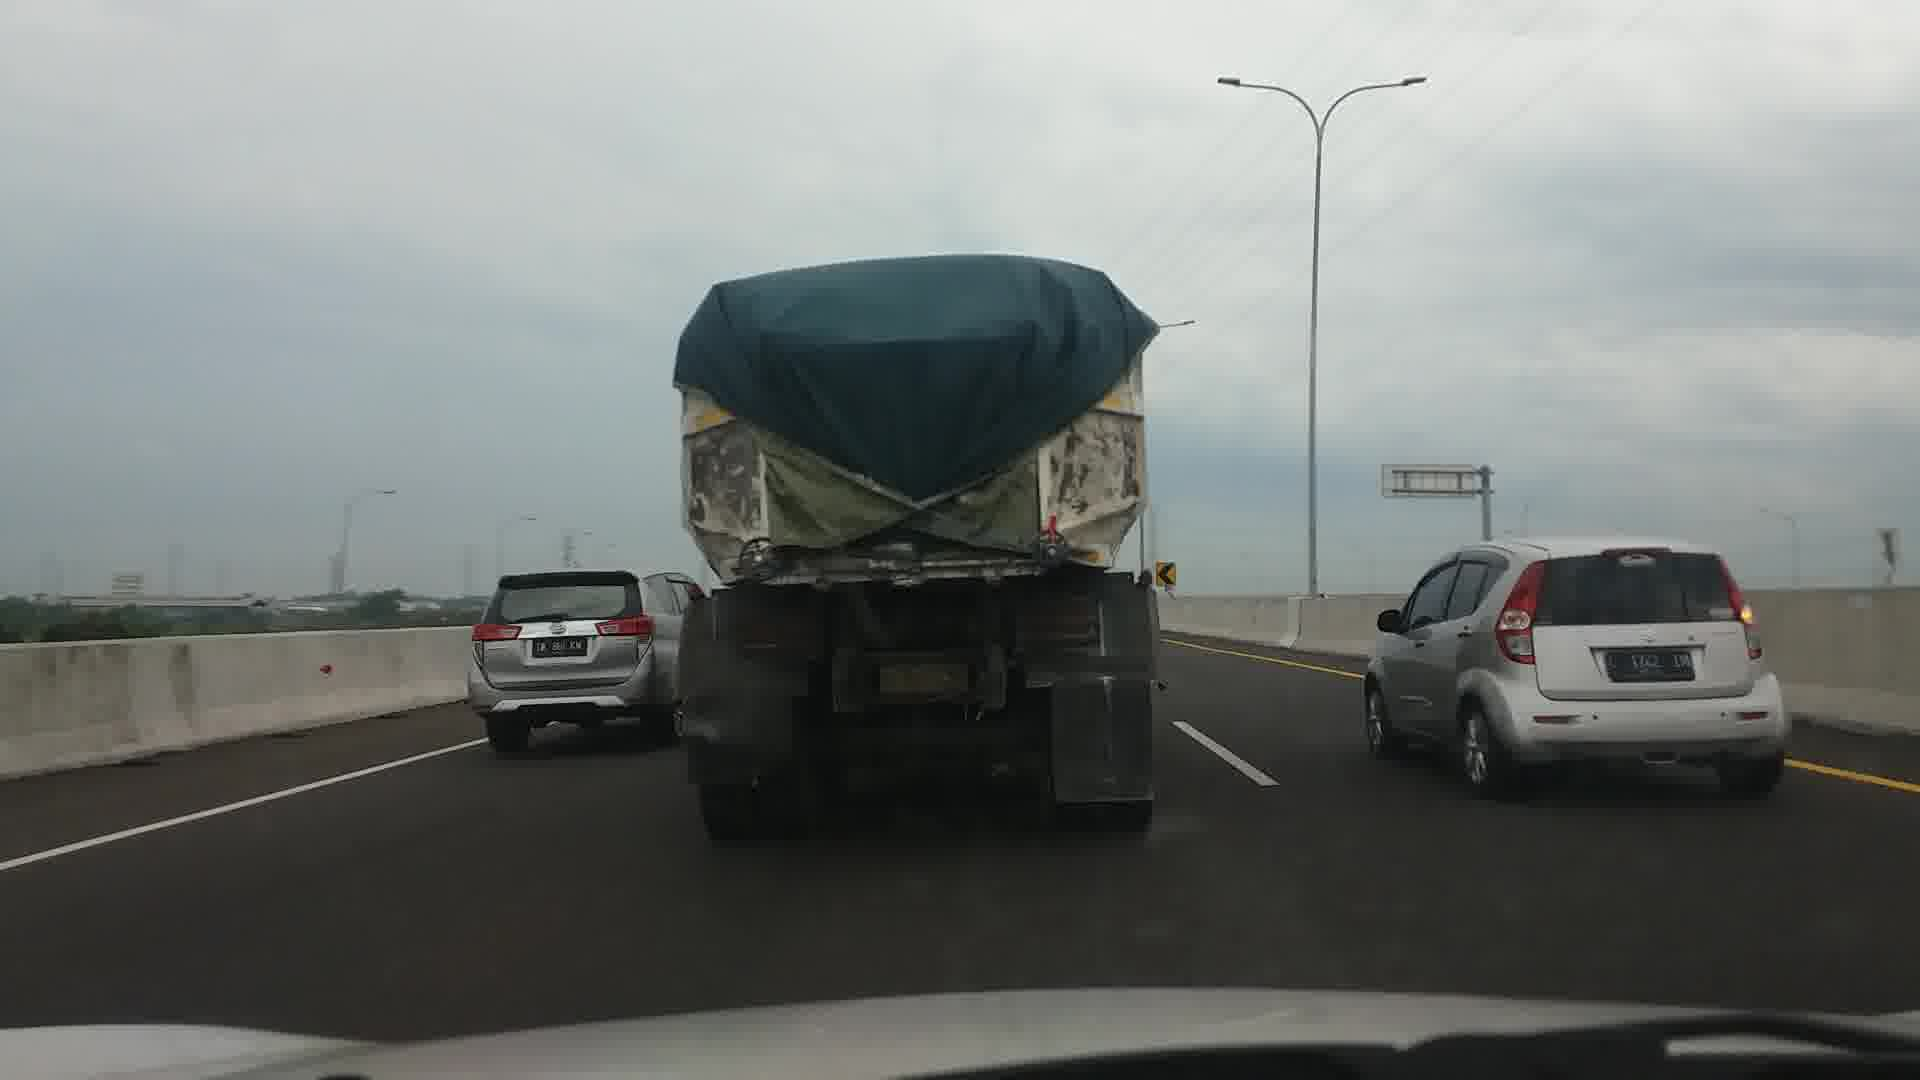plate_positive: (880, 663, 971, 694), (1605, 651, 1695, 680), (531, 638, 588, 657)
